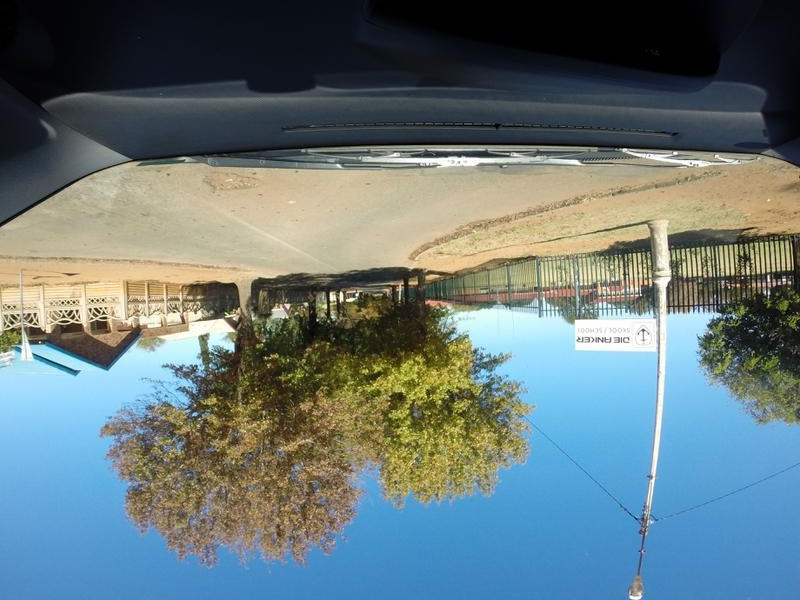pothole: (183, 170, 266, 210)
